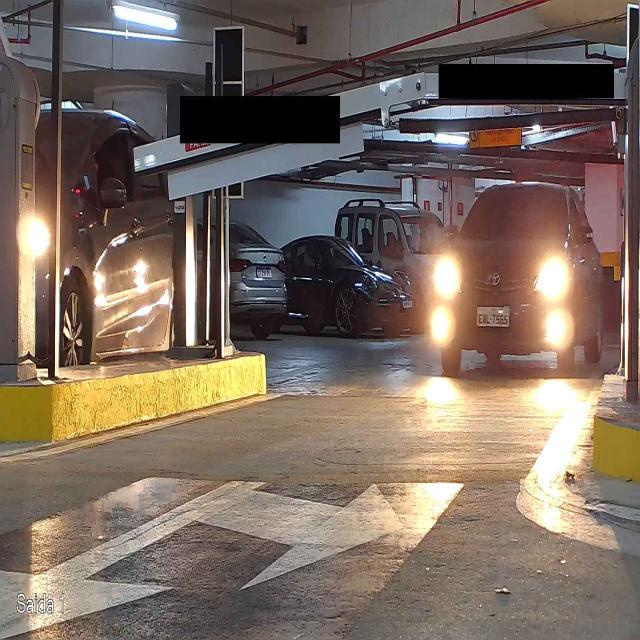old_plate: (474, 304, 512, 329)
